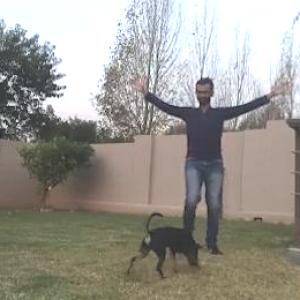takeoff: (126, 61, 299, 267)
